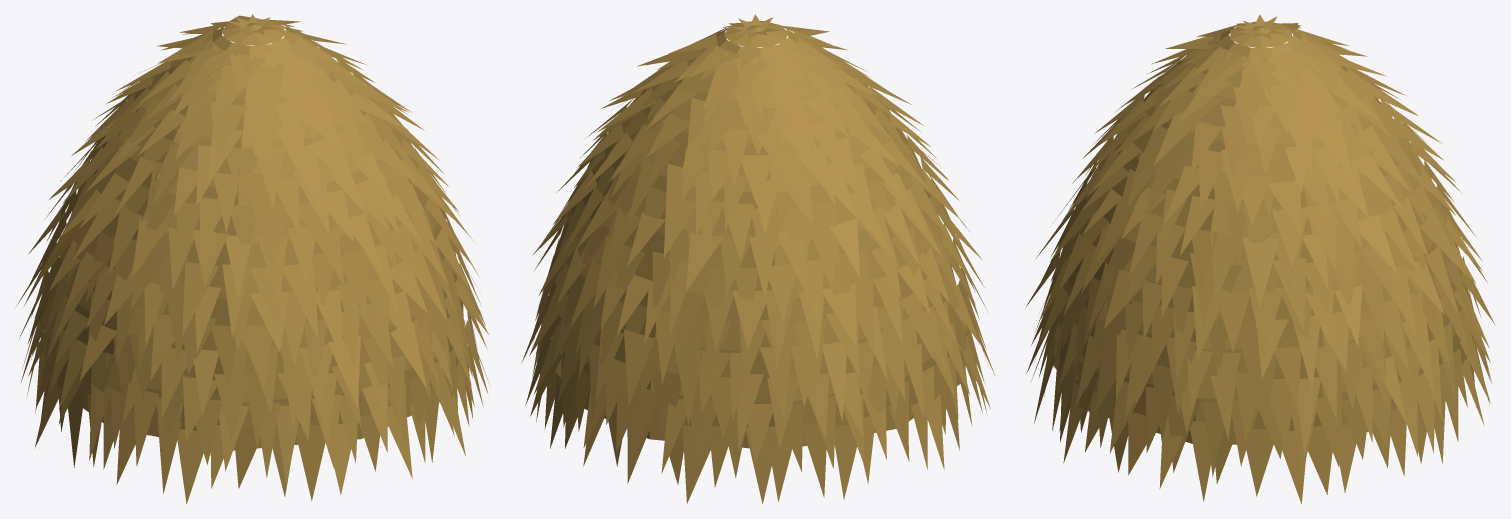
The model's file is haystack-77b0dd.glb.
3 views of the same model, side by side, from view 1: azimuth 30°, elevation 25°; view 2: azimuth 150°, elevation 25°; view 3: azimuth 270°, elevation 25° (orthographic).
Parts seen in each view (by area): view 1: haystack-mesh; view 2: haystack-mesh; view 3: haystack-mesh.
Part boxes in pixels (x1=…): haystack-mesh: x1=16, y1=14, x2=489, y2=503; haystack-mesh: x1=521, y1=14, x2=994, y2=504; haystack-mesh: x1=1025, y1=14, x2=1495, y2=503.
Bounding box in the file's own units: 2.02 × 1.85 × 2.04.
